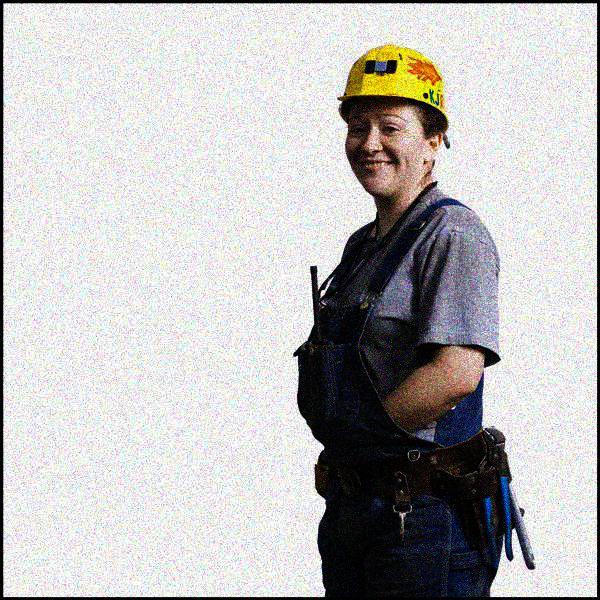helmet: (339, 43, 457, 205)
